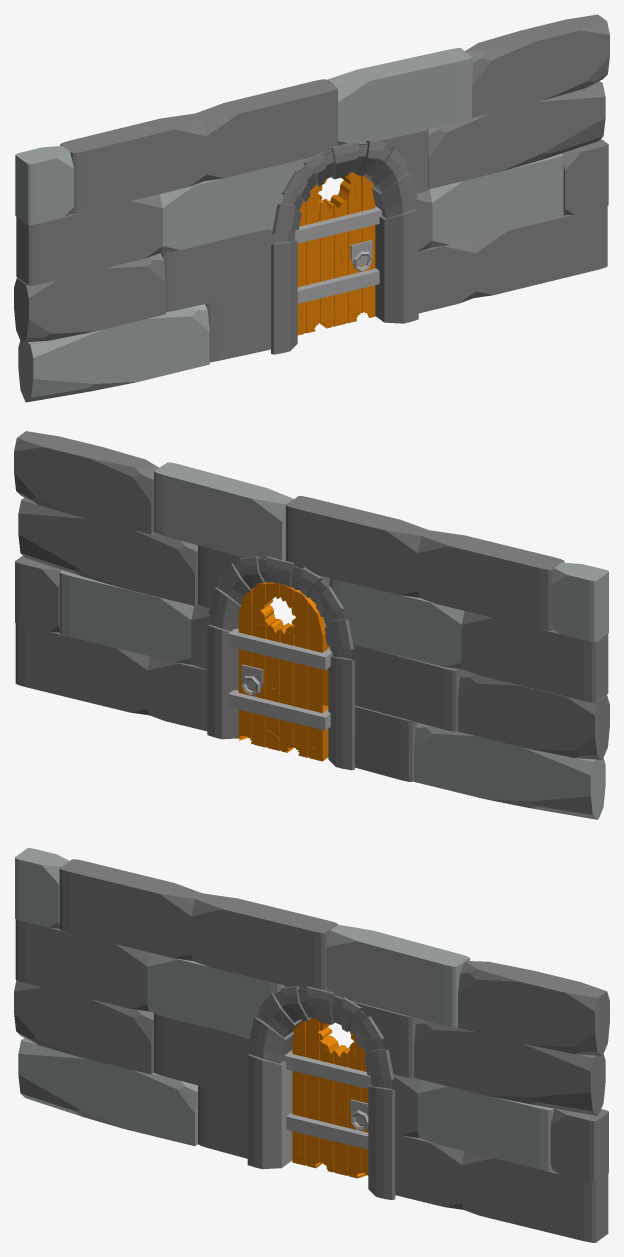
File: walls_001.fbx
3 renders of one model, top to bottom at view 1: azimuth 30°, elevation 25°; view 2: azimuth 150°, elevation 25°; view 3: azimuth 330°, elevation 25°, orthographic.
Visible parts, largest first — view 1: walls.004, doors; view 2: walls.004, doors; view 3: walls.004, doors.
Part boxes in pixels (x1,y1,x2,y2): walls.004: (14,14,609,402); doors: (294,172,382,335); walls.004: (14,431,609,819); doors: (228,582,332,761); walls.004: (14,848,609,1242); doors: (284,1018,371,1178).
Size of the model in its own units: 264 by 106 by 21.43.
